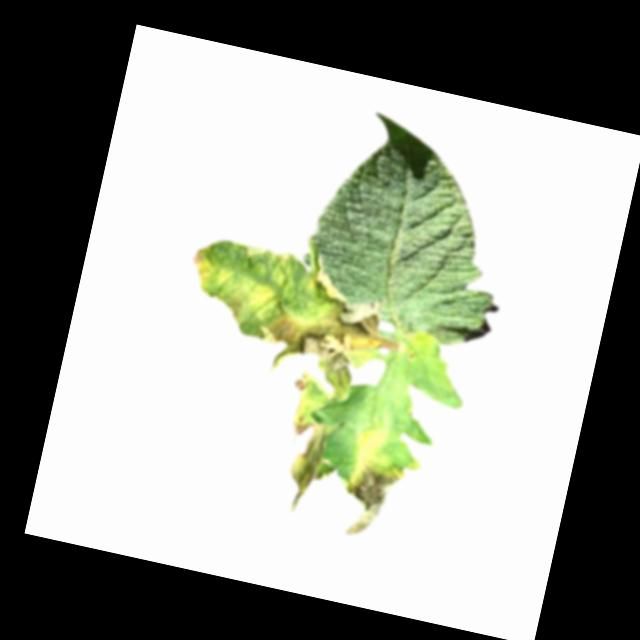Late_blight: (251, 281, 400, 408), (273, 410, 343, 519), (335, 450, 411, 544), (219, 285, 257, 330), (288, 369, 320, 414), (187, 243, 218, 288)
healthy: (290, 102, 525, 352)
